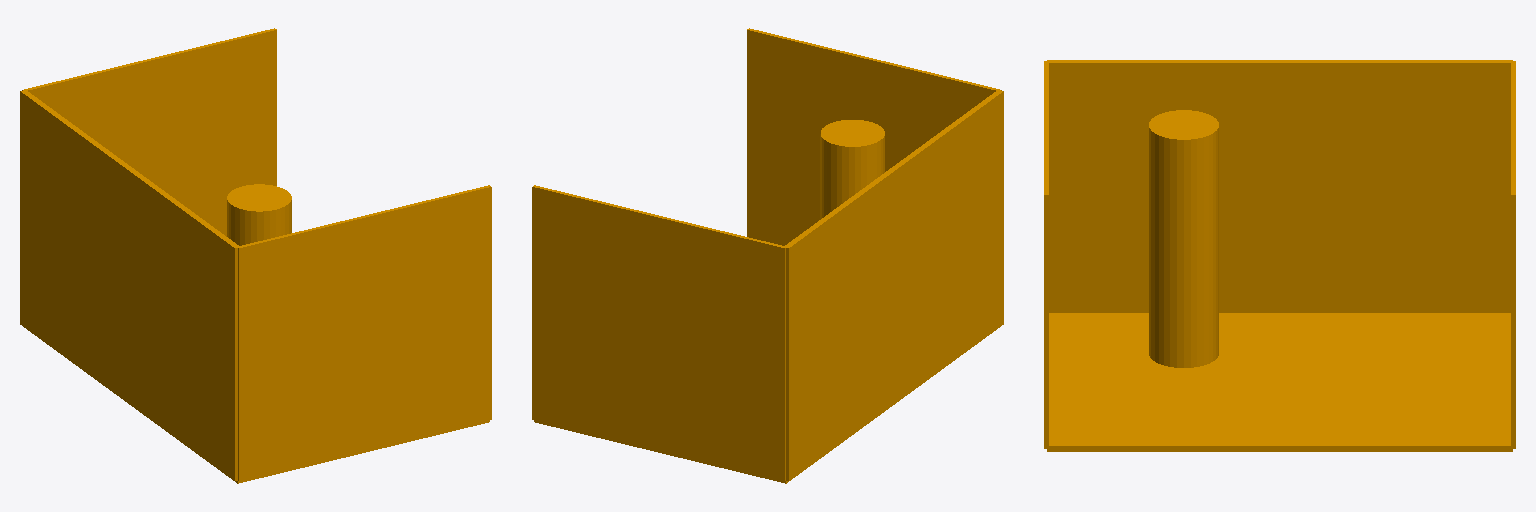
URDF robot description (syn_can_cabinet_816):
<?xml version="1.0" ?>
<robot name="syn_can_cabinet_816">
    <link concave="yes" name="base_link">
        <inertial>
            <origin rpy="0 0 0" xyz="0 0 0"/>
            <mass value="0.0"/>
            <inertia ixx="1e-08" ixy="0" ixz="0" iyy="1e-08" iyz="0" izz="1e-08"/>
        </inertial>
        <visual>
            <origin xyz="0 0 0" rpy="0 0 0" />
            <geometry>
                <mesh filename="syn_can_cabinet_816.obj" scale="1.000000 1.000000 1.000000"/>
            </geometry>         
        </visual>

        <collision concave="yes">
            <origin xyz="0 0 0" rpy="0 0 0"/>
            <geometry>
                <mesh filename="syn_can_cabinet_816.obj" scale="1.000000 1.000000 1.000000"/>
            </geometry>
        </collision>
    </link>
</robot>
    

--- Render facts (derived) ---
3 views of the same robot in one strip: view 1: azimuth 30°, elevation 25°; view 2: azimuth 150°, elevation 25°; view 3: azimuth 270°, elevation 25° (orthographic).
Robot: syn_can_cabinet_816 — 1 links, 0 joints (none); root link base_link; default pose: all joints at 0.
Visible links, largest first — view 1: base_link; view 2: base_link; view 3: base_link.
Link boxes in pixels (left/top/right/bottom): base_link: left=20, top=28, right=491, bottom=483; base_link: left=532, top=28, right=1003, bottom=483; base_link: left=1044, top=60, right=1515, bottom=451.
Size in the robot's own frame: 0.215 by 0.3158 by 0.1899 metres.
1 mesh visuals loaded from 1 distinct referenced files (1 OBJ).
